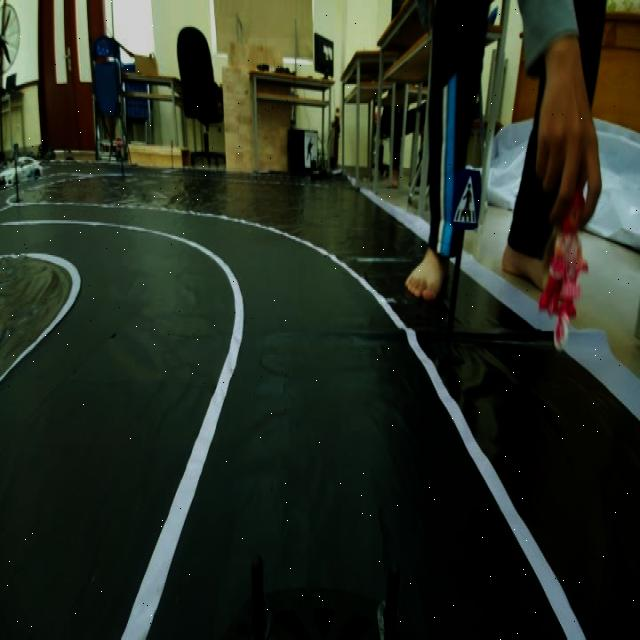crosswalk: (450, 164, 482, 234)
